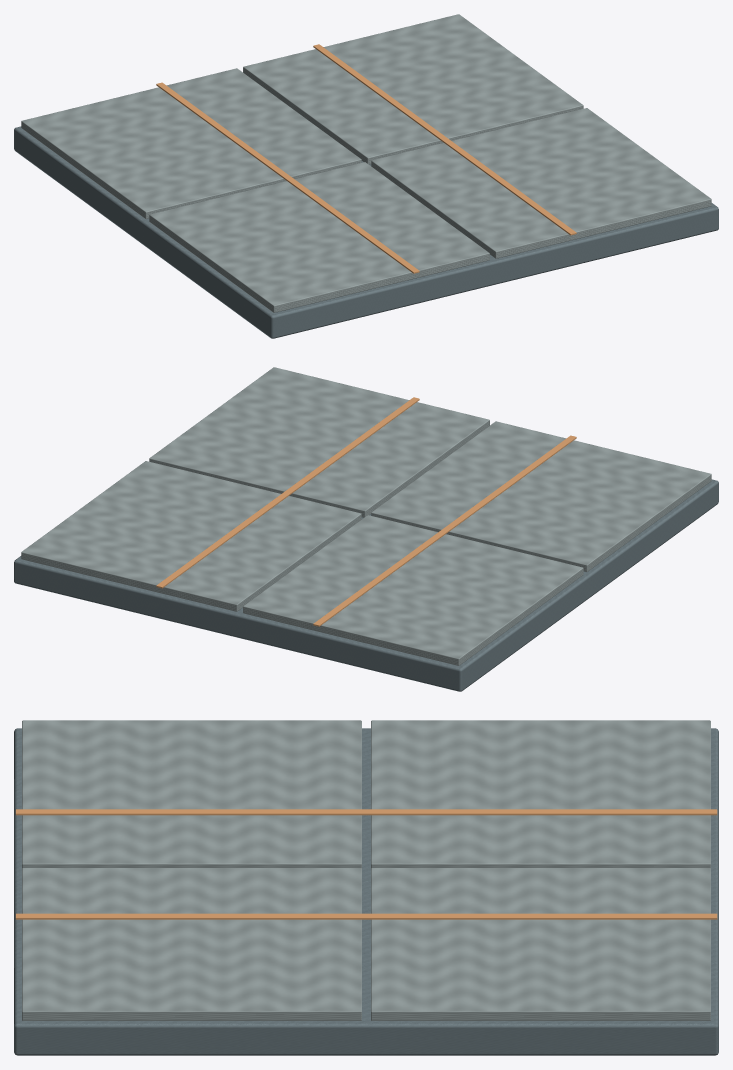
File: dwarven-runeforge-dungeon-dwarven-runeforge-dungeon-in-89f178ee__28577.glb
3 views of the same model, one above another, from view 1: azimuth 30°, elevation 25°; view 2: azimuth 150°, elevation 25°; view 3: azimuth 270°, elevation 25° (orthographic). The views are drawn at different scales.
Visible parts, largest first — view 1: dwarven-runeforge-dungeon-inlaid-path-bay; view 2: dwarven-runeforge-dungeon-inlaid-path-bay; view 3: dwarven-runeforge-dungeon-inlaid-path-bay.
Boxes of the visible parts, box(x1,y1,x2,y2) form: dwarven-runeforge-dungeon-inlaid-path-bay: box(14, 14, 718, 338); dwarven-runeforge-dungeon-inlaid-path-bay: box(14, 367, 718, 691); dwarven-runeforge-dungeon-inlaid-path-bay: box(14, 720, 718, 1055).
Size of the model in its own units: 4 by 0.2782 by 4.
3 materials, 2 textured.
